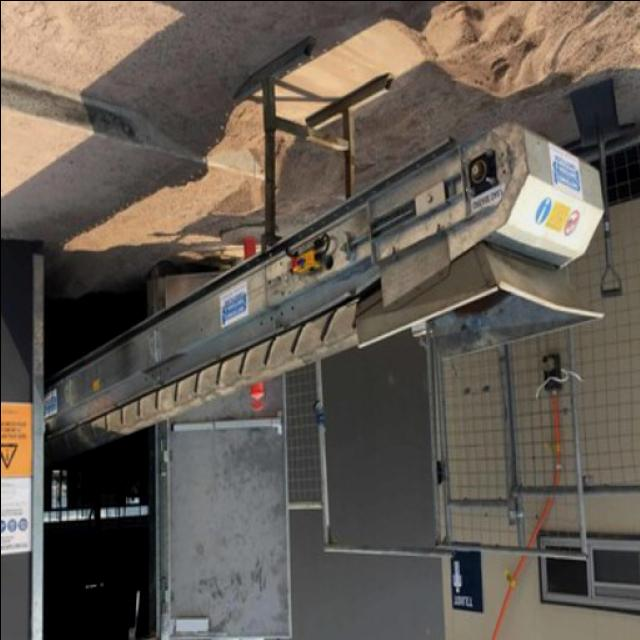conveyor: (54, 280, 602, 457)
